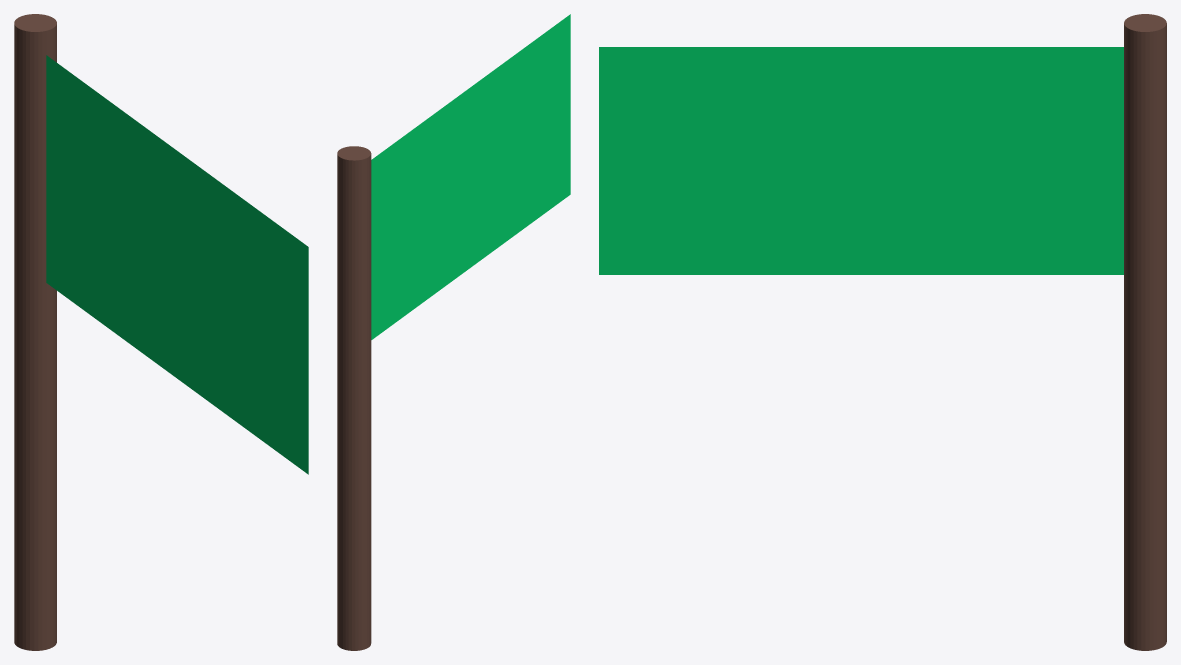
The model's file is Flag_02.fbx.
3 views of the same model, side by side, from view 1: azimuth 30°, elevation 25°; view 2: azimuth 150°, elevation 25°; view 3: azimuth 270°, elevation 25° (orthographic). The views are drawn at different scales.
Parts seen in each view (by area): view 1: Plane; view 2: Plane; view 3: Plane.
Part boxes in pixels (<box>): Plane: <box>14,14,308,650</box>; Plane: <box>337,14,570,650</box>; Plane: <box>599,14,1166,650</box>.
Size of the model in its own units: 12.55 by 200 by 166.
